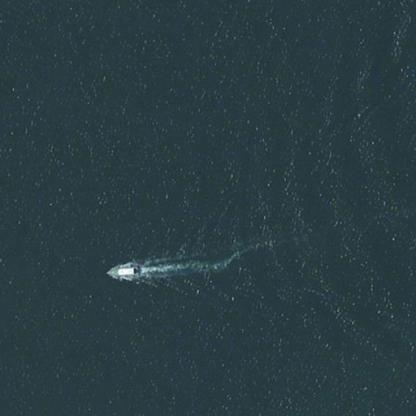ship: (103, 260, 144, 282)
